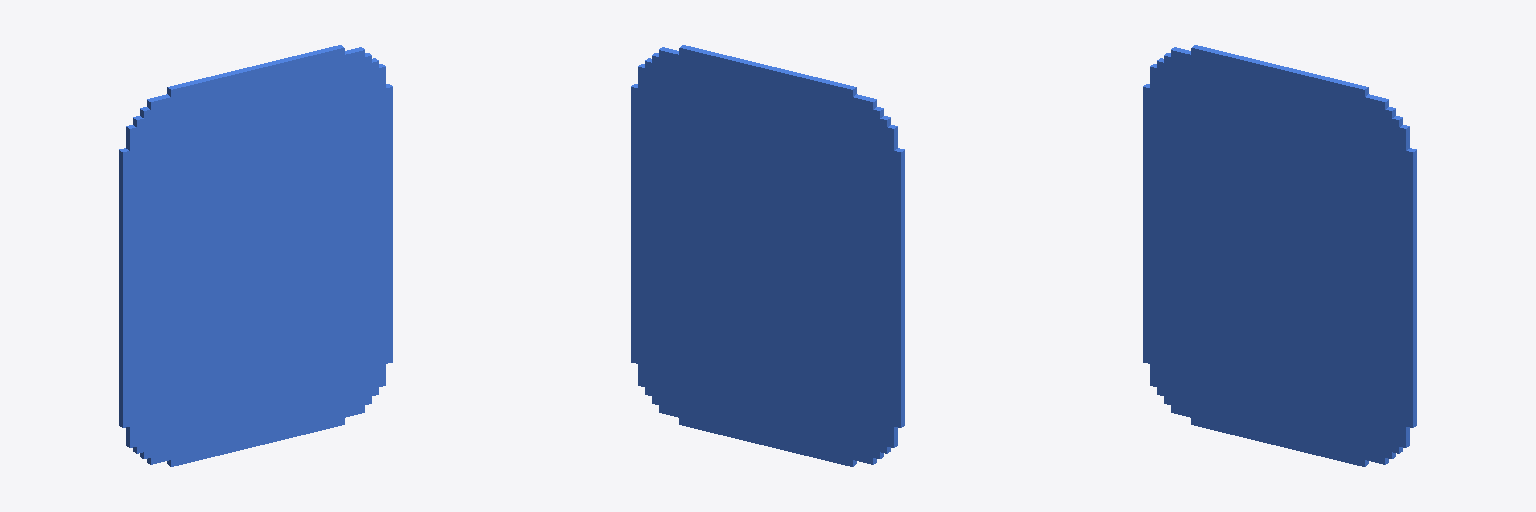
3 views of the same model, side by side, from view 1: azimuth 30°, elevation 25°; view 2: azimuth 150°, elevation 25°; view 3: azimuth 330°, elevation 25° (orthographic).
Parts seen in each view (by area): view 1: Window_Small; view 2: Window_Small; view 3: Window_Small.
Boxes of the visible parts, box(x1,y1,x2,y2) form: Window_Small: box(119, 45, 392, 466); Window_Small: box(631, 45, 904, 466); Window_Small: box(1143, 45, 1416, 466).
Bounding box in the file's own units: 39 × 52 × 1.
1 materials, 1 textured.